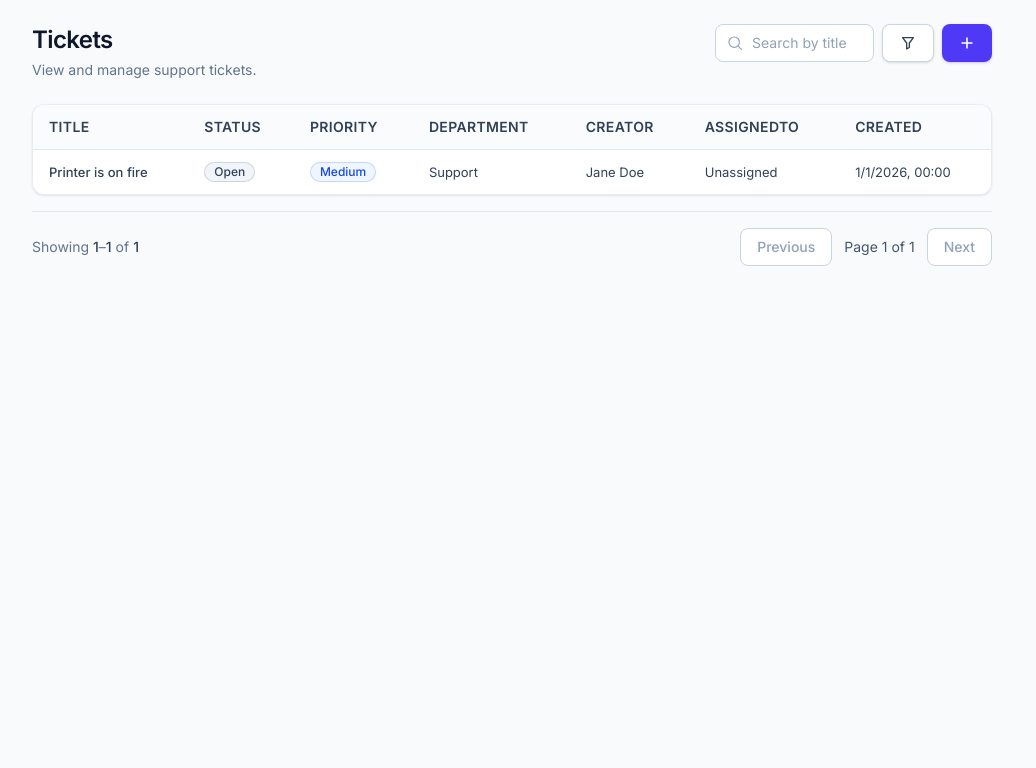
Test: TicketsListPage › enables the reset button once a filter is active, and resets on click
Step 1. Click the button named "Filters" → (908, 43), box [882, 24, 934, 62]
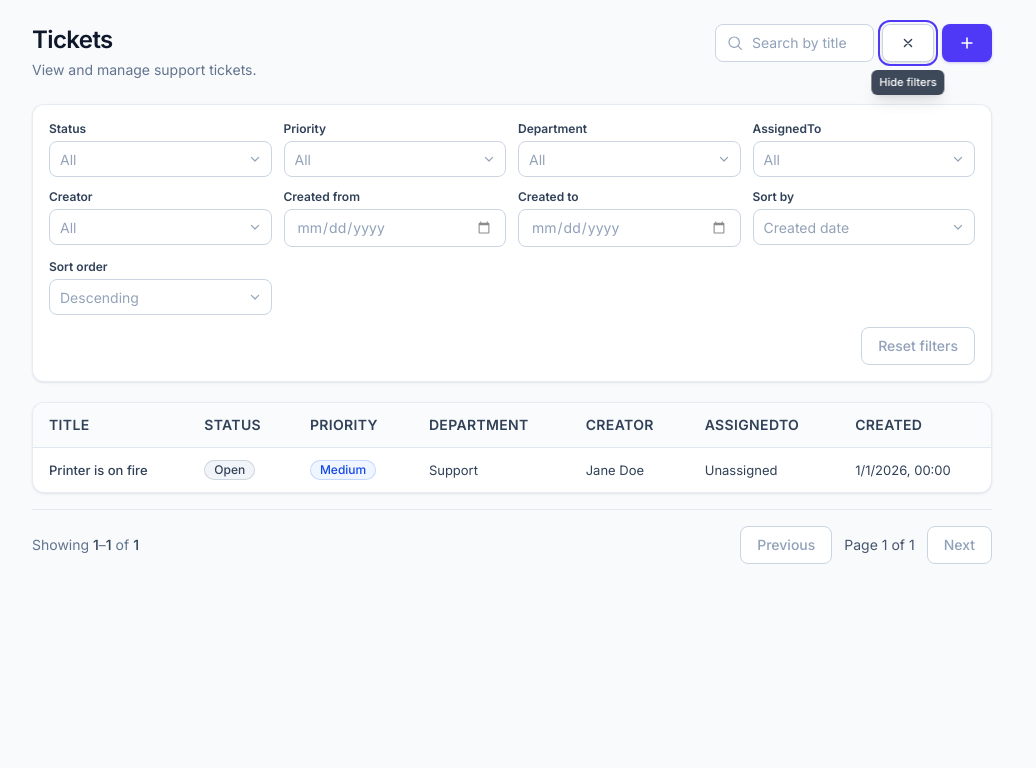
expect the button "Reset filters" is disabled: met, box [861, 327, 975, 365]
Step 2. Click the dropdown labelled "Priority" → (296, 159), box [294, 148, 298, 170]
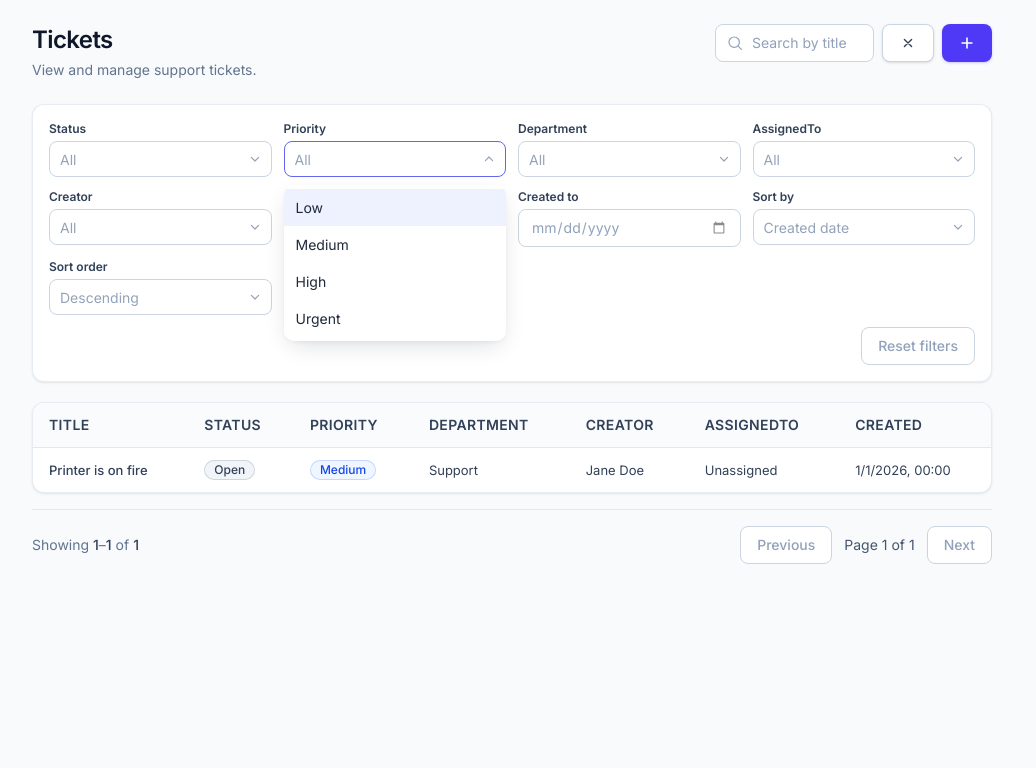
Step 3. Click the option "High" → (395, 282), box [284, 263, 506, 300]
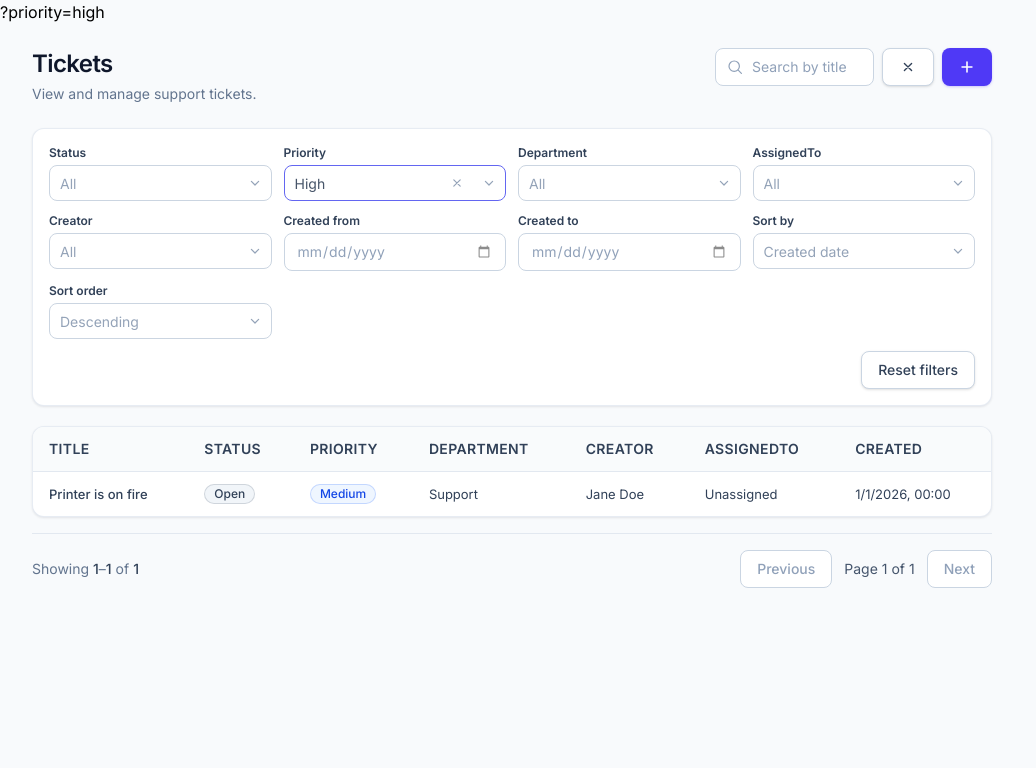
expect the button "Reset filters" is enabled: met, box [861, 351, 975, 389]
Step 4. Click the button named "Hide filters" → (908, 67), box [882, 48, 934, 86]
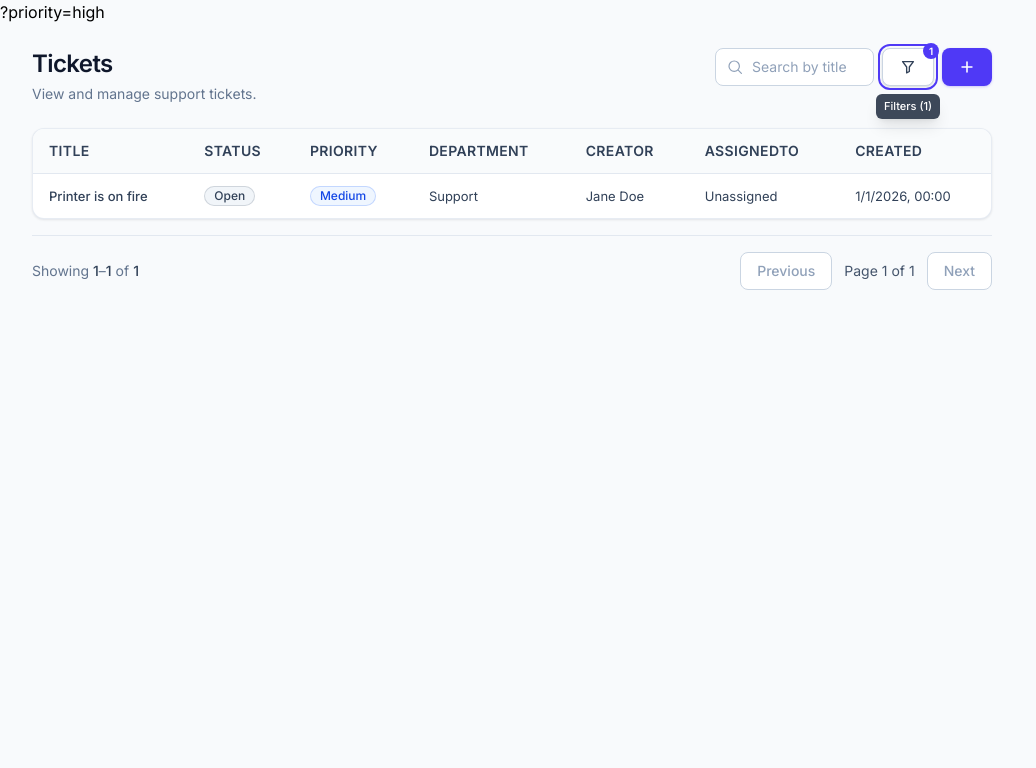
expect the button named "Filters (1)" is shown: met
Step 5. Click the button named "Filters (1)" → (908, 67), box [882, 48, 934, 86]
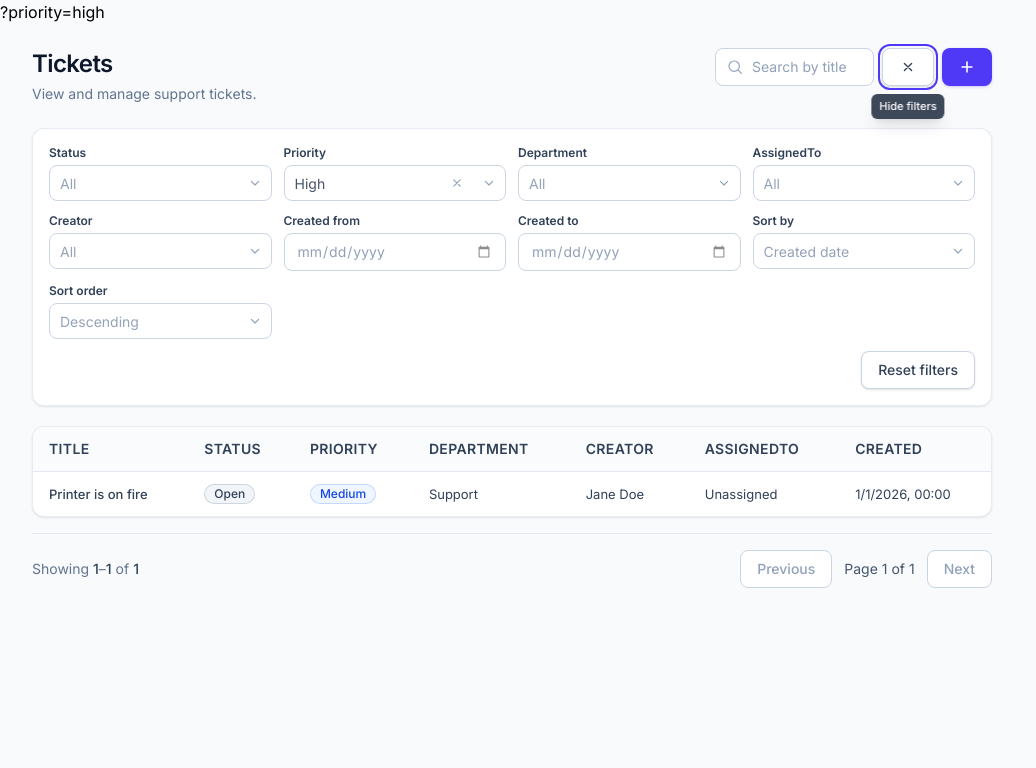
Step 6. Click the button "Reset filters" → (918, 370), box [861, 351, 975, 389]
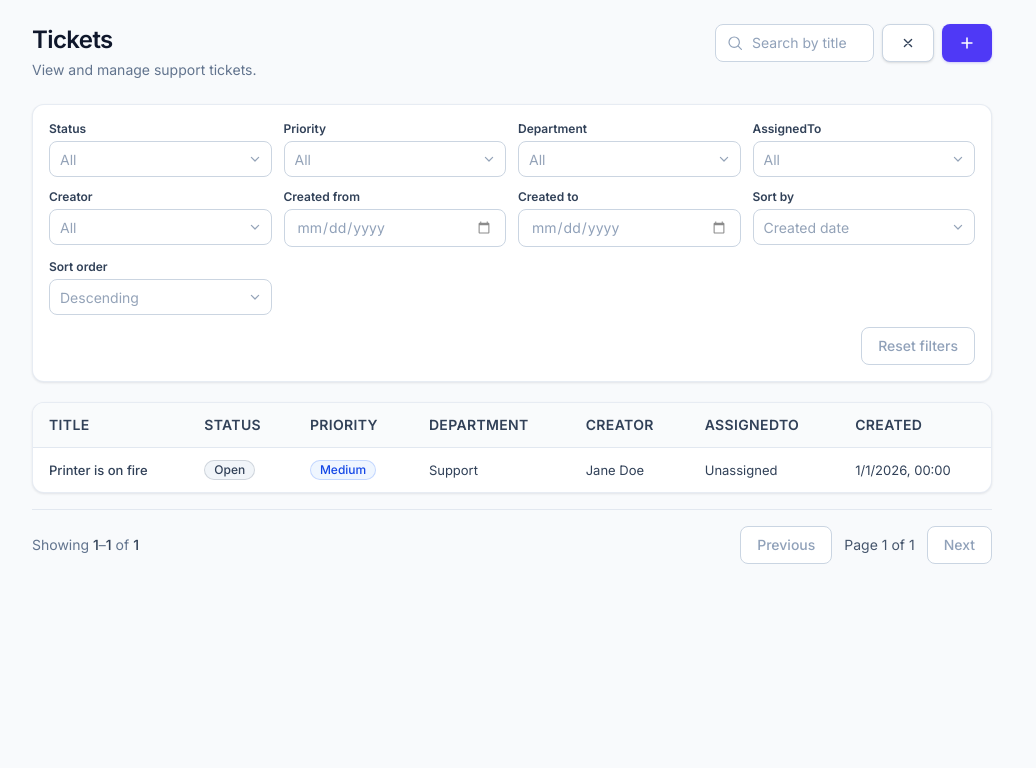
expect the 2nd text "All" is shown: met, box [294, 150, 311, 168]
expect the button "Reset filters" is disabled: met, box [861, 327, 975, 365]
